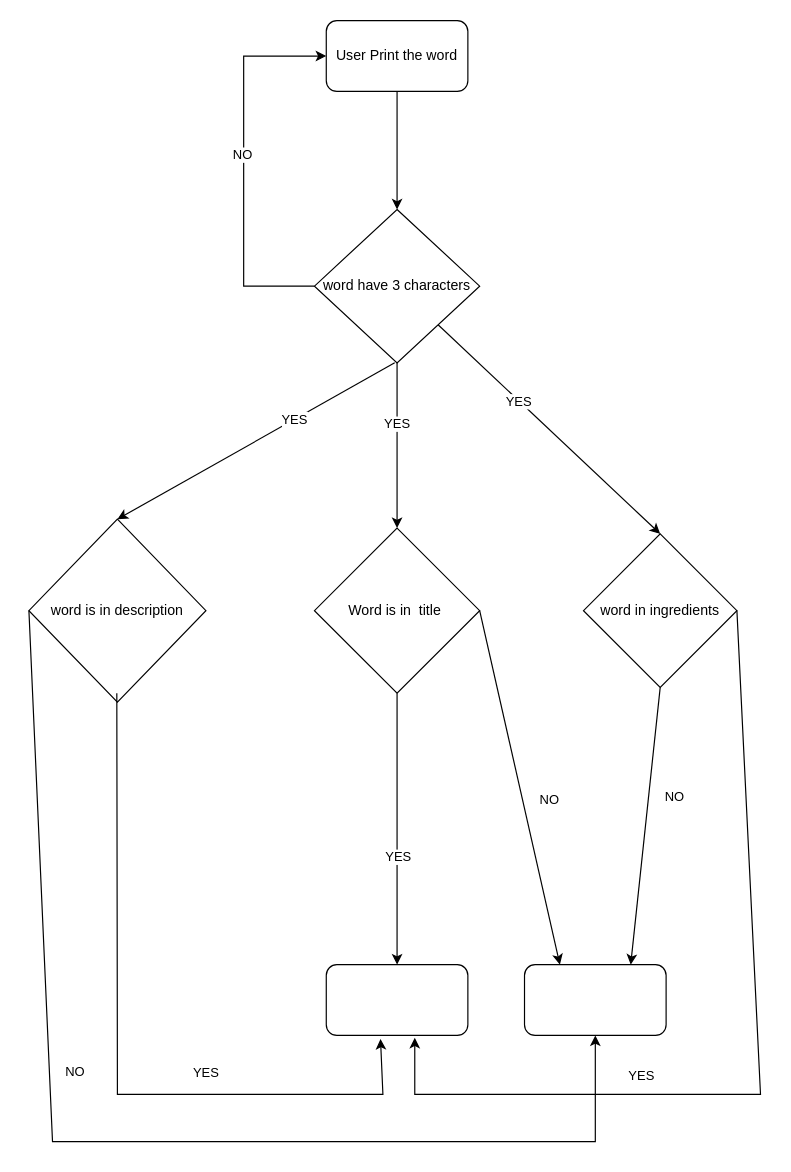
Some shapes in this 791 by 1172 pixel diagram are drawn without their labels. Here are the shapes that lost their labels. From the top down, the centre of each, then its label:
At [396,999]: "Show Suitable Elements".
At [594,999]: "Show Message".
